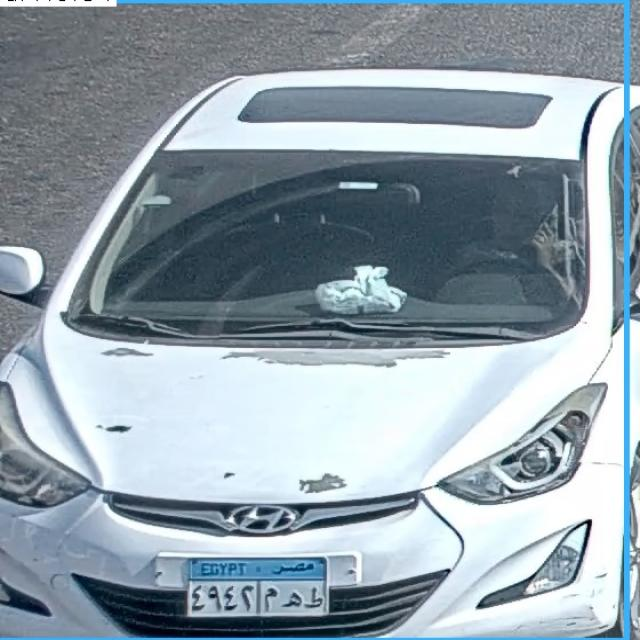windshield: (87, 150, 586, 326)
